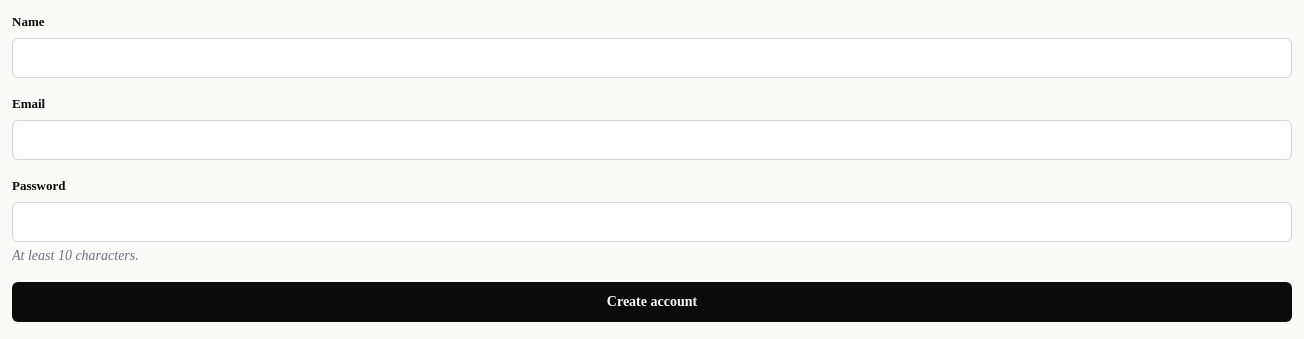
Test case: SignUpForm › another email goes back to the details, keeping them
Type "Ana" into the field labelled "Name".
click(652, 58); type("Ana")  # box x1=12 y1=38 x2=1292 y2=78
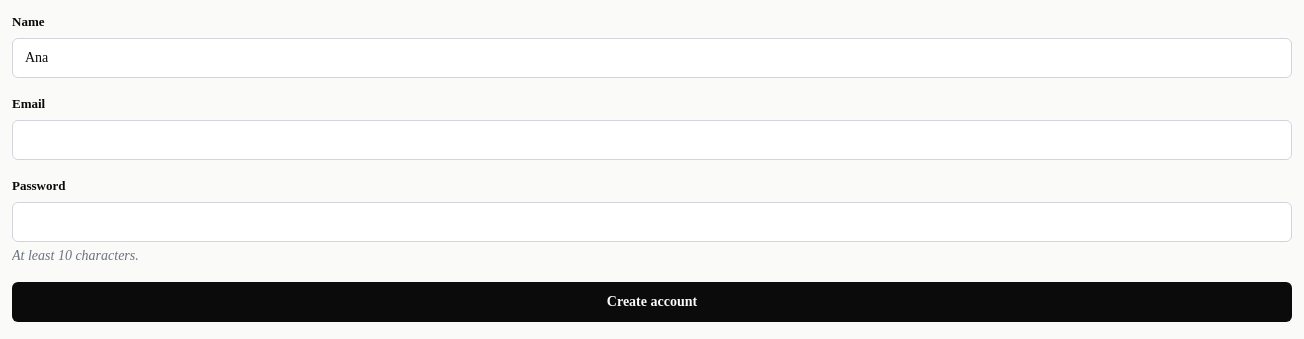
Type "ana@usp.br" into the field labelled "Email".
click(652, 140); type("ana@usp.br")  # box x1=12 y1=120 x2=1292 y2=160
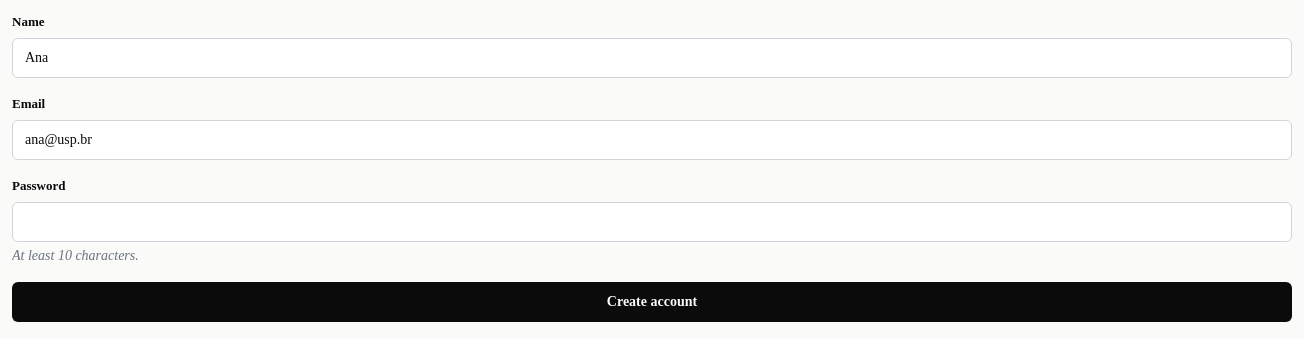
Type "a long password" into the password field labelled "Password".
click(652, 222); type("a long password")  # box x1=12 y1=202 x2=1292 y2=242
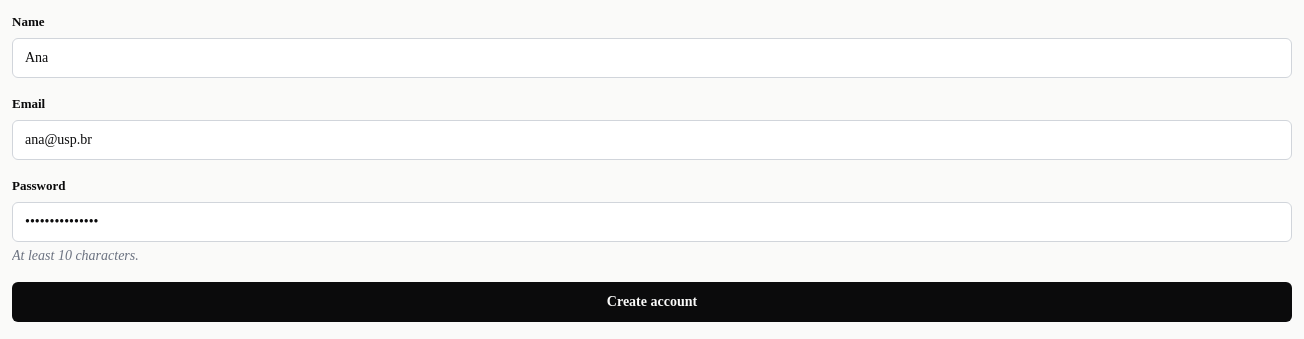
Click the button "Create account".
click(652, 302)  # box x1=12 y1=282 x2=1292 y2=322
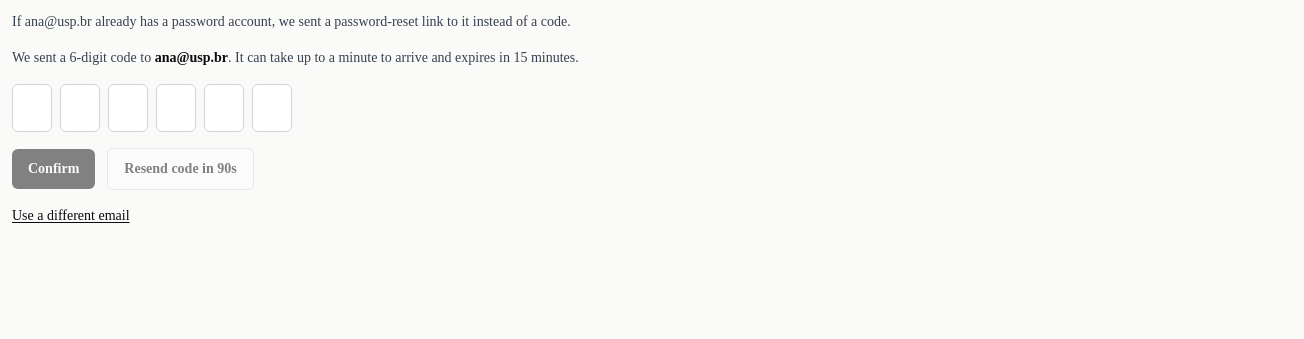
expect the field named "Digit 1 of 6" is shown: met, box x1=12 y1=84 x2=52 y2=132
Click the button "Use a different email".
click(71, 216)  # box x1=12 y1=206 x2=130 y2=226
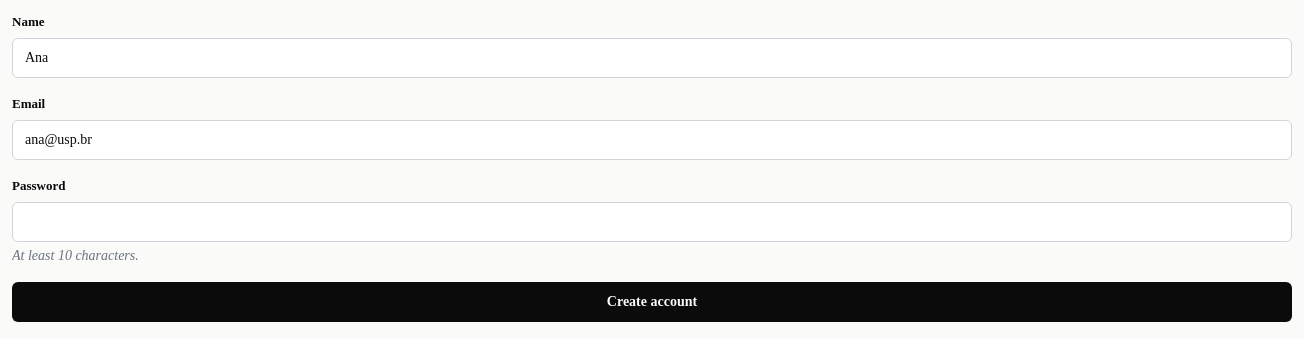
expect the field labelled "Name" holds "Ana": met, box x1=12 y1=38 x2=1292 y2=78
expect the field labelled "Email" holds "ana@usp.br": met, box x1=12 y1=120 x2=1292 y2=160
expect the password field labelled "Password" is empty: met, box x1=12 y1=202 x2=1292 y2=242
